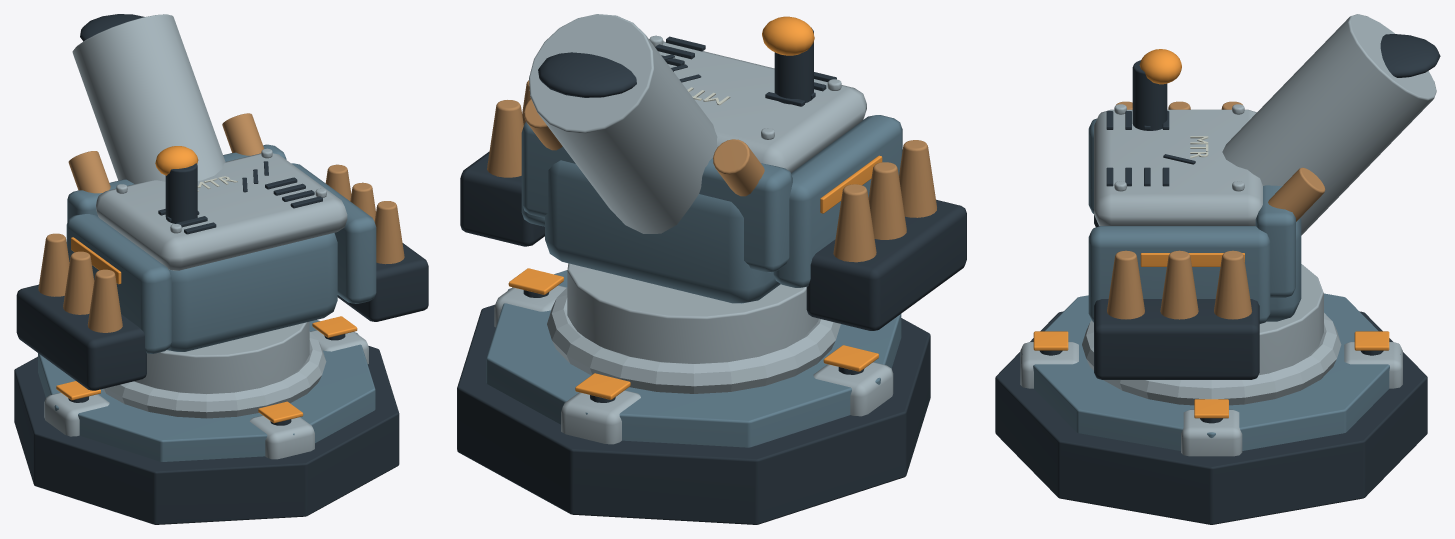
Rendered from 02_mortar_bulwark.glb.
3 views of the same model, side by side, from view 1: azimuth 30°, elevation 25°; view 2: azimuth 150°, elevation 25°; view 3: azimuth 270°, elevation 25° (orthographic). The views are drawn at different scales.
Visible parts, largest first — view 1: Top carapace, Anchor deck, Armored cradle, Bearing, Cooling vent, Beveled plinth, Recoil piston, Safety flash, Identification strip; view 2: Anchor deck, Top carapace, Armored cradle, Bearing, Cooling vent, Beveled plinth, Recoil piston, Safety flash, Identification strip; view 3: Top carapace, Anchor deck, Beveled plinth, Cooling vent, Bearing, Armored cradle, Recoil piston, Safety flash, Identification strip.
Part boxes in pixels (x1,y1,x2,y2): Top carapace: (72, 14, 347, 270); Anchor deck: (14, 334, 399, 524); Armored cradle: (66, 144, 376, 353); Bearing: (44, 321, 368, 459); Cooling vent: (16, 14, 428, 390); Beveled plinth: (38, 320, 375, 461); Recoil piston: (38, 113, 404, 332); Safety flash: (56, 316, 357, 423); Identification strip: (71, 146, 198, 284); Anchor deck: (457, 290, 930, 524); Top carapace: (529, 14, 866, 233); Armored cradle: (521, 115, 902, 303); Bearing: (494, 263, 893, 444); Cooling vent: (460, 27, 966, 330); Beveled plinth: (486, 270, 901, 447); Recoil piston: (487, 80, 936, 262); Safety flash: (508, 268, 878, 399); Identification strip: (762, 16, 882, 213); Top carapace: (1094, 14, 1436, 235); Anchor deck: (995, 311, 1427, 524); Beveled plinth: (1022, 293, 1400, 450); Cooling vent: (1094, 34, 1440, 379); Bearing: (1020, 264, 1402, 456); Armored cradle: (1088, 118, 1301, 323); Recoil piston: (1107, 101, 1325, 319); Safety flash: (1033, 331, 1389, 418); Identification strip: (1139, 49, 1244, 266).
Size of the model in its own units: 1.62 by 1.7 by 1.66.
